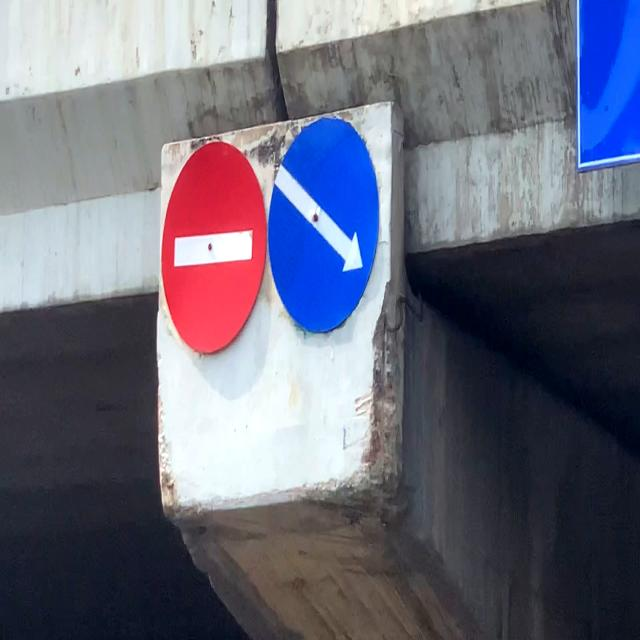P.102: (160, 134, 268, 360)
R.302a: (266, 115, 382, 336)
